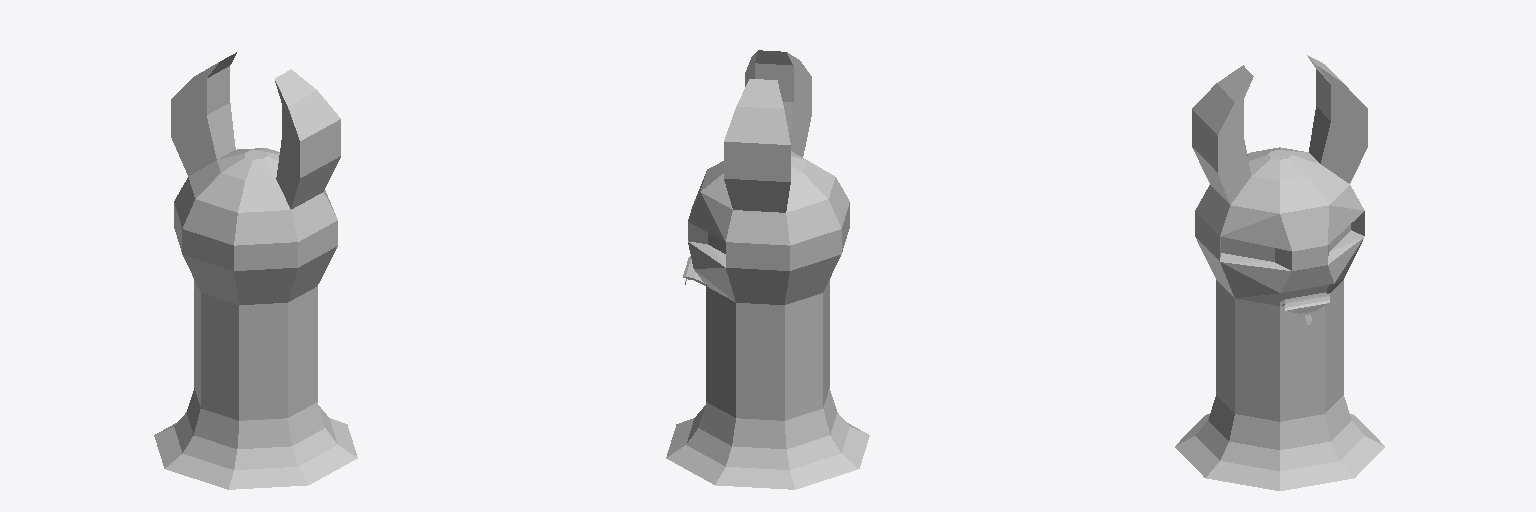
Rendered from totem1.obj.
The picture shows the model from 3 angles: view 1: azimuth 30°, elevation 25°; view 2: azimuth 150°, elevation 25°; view 3: azimuth 270°, elevation 25°; orthographic projection.
Parts seen in each view (by area): view 1: Cylinder; view 2: Cylinder; view 3: Cylinder.
Part boxes in pixels (bbox=[...]): Cylinder: bbox=[154, 52, 357, 489]; Cylinder: bbox=[666, 50, 869, 489]; Cylinder: bbox=[1175, 55, 1384, 490].
Size of the model in its own units: 2.59 by 5.16 by 2.59.